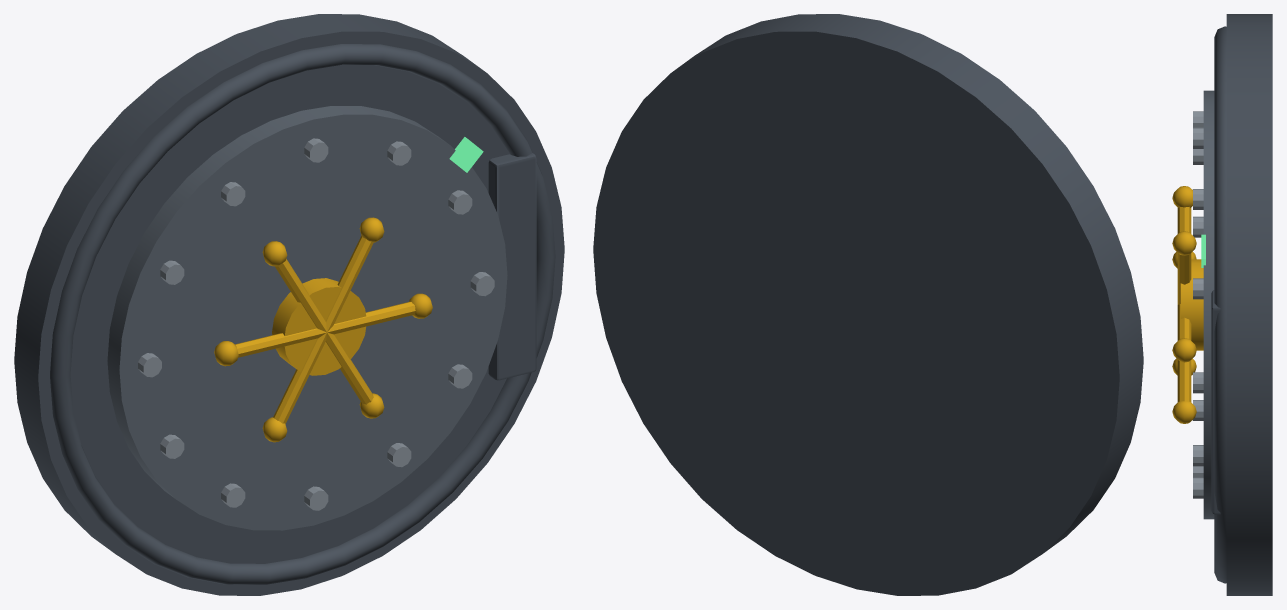
The model's file is vault-door.glb.
3 renders of one model, left to right at view 1: azimuth 30°, elevation 25°; view 2: azimuth 150°, elevation 25°; view 3: azimuth 270°, elevation 25°, orthographic. The views are drawn at different scales.
Parts seen in each view (by area): view 1: part-vault-rim, part-vault-door, part-accent, part-bolt; view 2: part-vault-rim; view 3: part-vault-rim, part-accent, part-vault-door, part-bolt, part-keypad.
Part boxes in pixels (x1=…): part-vault-rim: x1=14, y1=14, x2=564, y2=595; part-vault-door: x1=107, y1=106, x2=507, y2=530; part-accent: x1=214, y1=217, x2=432, y2=442; part-bolt: x1=138, y1=138, x2=494, y2=510; part-vault-rim: x1=593, y1=14, x2=1143, y2=595; part-vault-rim: x1=1211, y1=14, x2=1272, y2=595; part-accent: x1=1172, y1=186, x2=1203, y2=423; part-vault-door: x1=1203, y1=90, x2=1214, y2=519; part-bolt: x1=1193, y1=111, x2=1203, y2=498; part-keypad: x1=1201, y1=234, x2=1205, y2=267.
Size of the model in its own units: 76 by 76 by 13.1.
